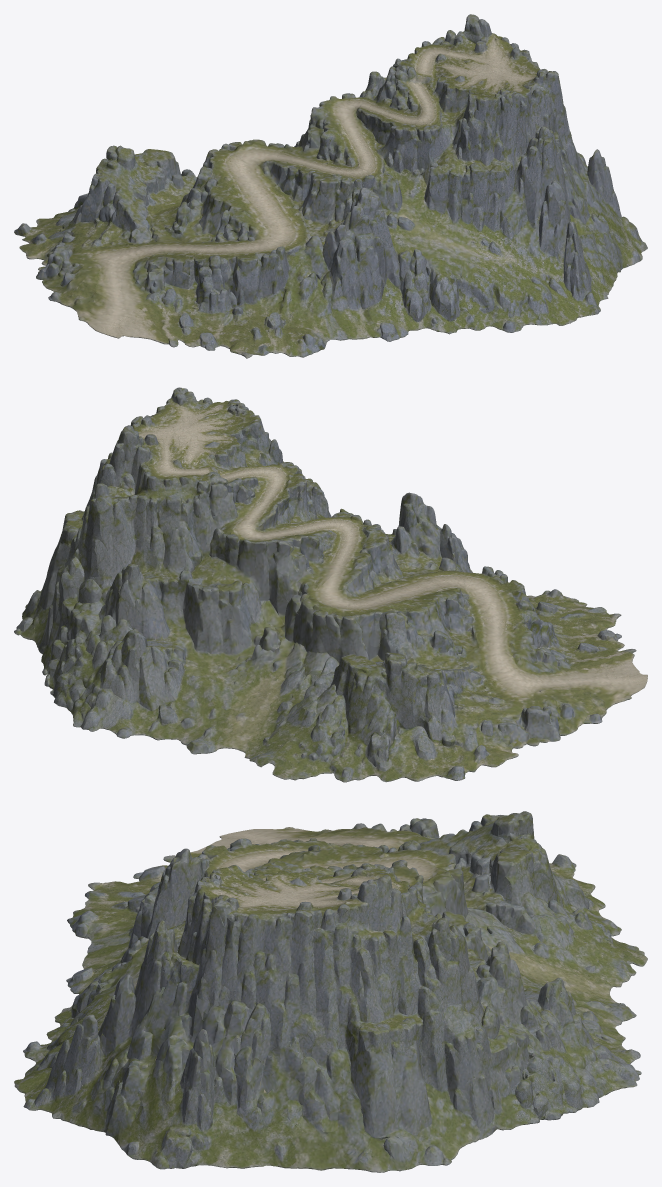
File: glb.glb
The picture shows the model from 3 angles, top to bottom: view 1: azimuth 30°, elevation 25°; view 2: azimuth 150°, elevation 25°; view 3: azimuth 270°, elevation 25°; orthographic projection. The views are drawn at different scales.
Visible parts, largest first — view 1: Mesh_0; view 2: Mesh_0; view 3: Mesh_0.
Part boxes in pixels (x1,y1,x2,y2): Mesh_0: [14, 14, 647, 358]; Mesh_0: [14, 387, 647, 782]; Mesh_0: [14, 811, 647, 1172].
Size of the model in its own units: 1.89 by 0.6543 by 1.56.
Materials: 1 (1 with a texture image).
